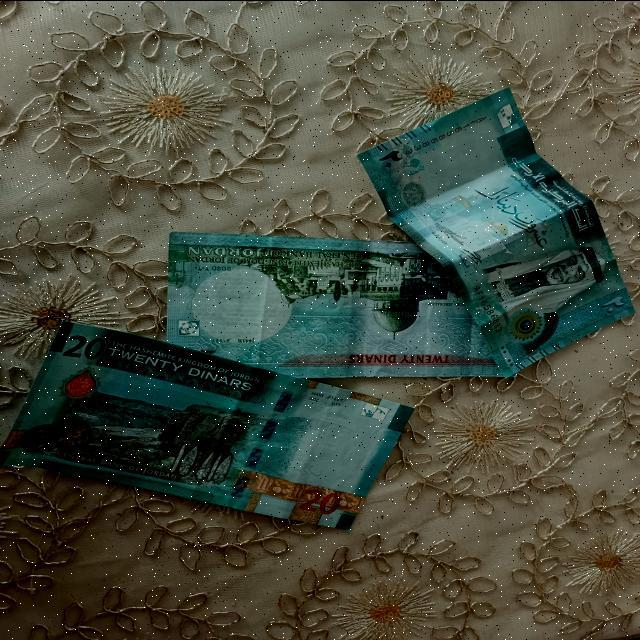20-dinar: (0, 322, 414, 530), (349, 84, 636, 376), (164, 230, 524, 384)
